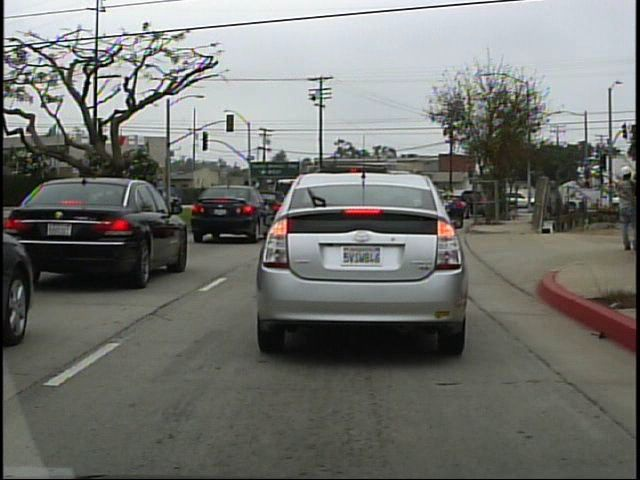person: (608, 158, 638, 260)
